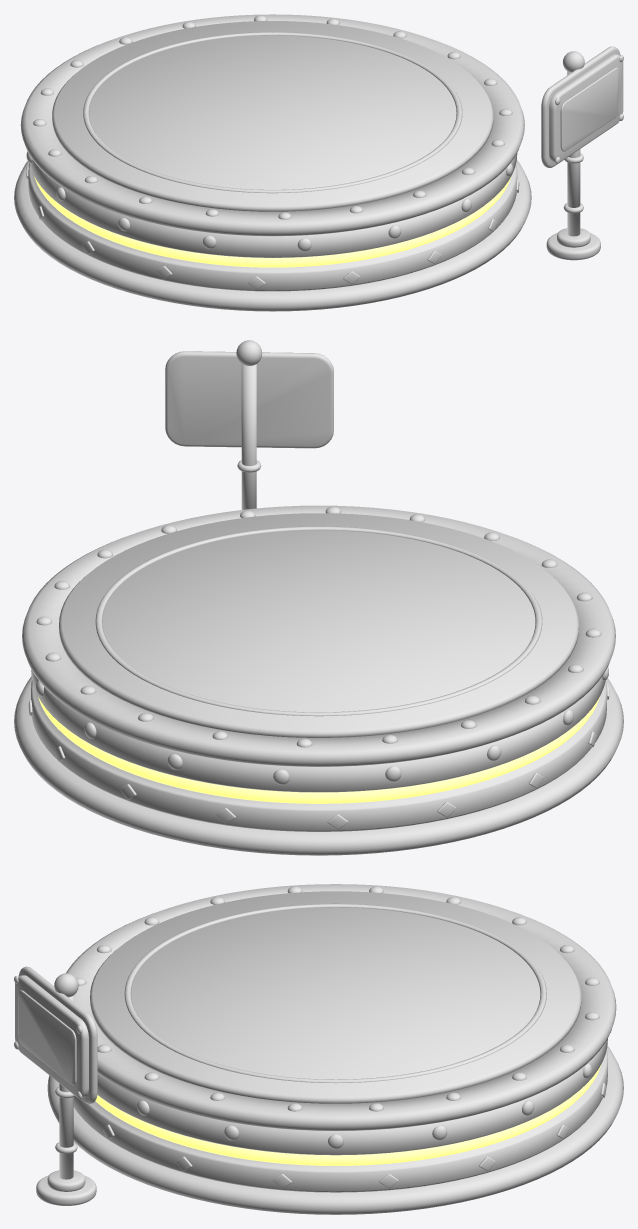
File: Prop.CrateStand.fbx
3 views of the same model, one above another, from view 1: azimuth 30°, elevation 25°; view 2: azimuth 150°, elevation 25°; view 3: azimuth 270°, elevation 25° (orthographic). The views are drawn at different scales.
Parts seen in each view (by area): view 1: Pedestal, Trim, Sign, RimLight, SignFace; view 2: Pedestal, Trim, Sign, RimLight; view 3: Pedestal, Trim, Sign, RimLight, SignFace.
Part boxes in pixels (x1,y1,x2,y2): Pedestal: (28, 21, 517, 291); Trim: (14, 14, 531, 311); Sign: (541, 46, 623, 260); RimLight: (34, 176, 510, 267); SignFace: (560, 67, 619, 151); Pedestal: (31, 513, 606, 831); Trim: (14, 505, 623, 855); Sign: (165, 340, 333, 509); RimLight: (38, 697, 599, 803); Pedestal: (73, 891, 607, 1192); Trim: (47, 884, 623, 1214); Sign: (14, 966, 97, 1205); RimLight: (95, 1065, 600, 1165); SignFace: (18, 990, 76, 1085).
Size of the model in its own units: 630 by 257 by 645.
